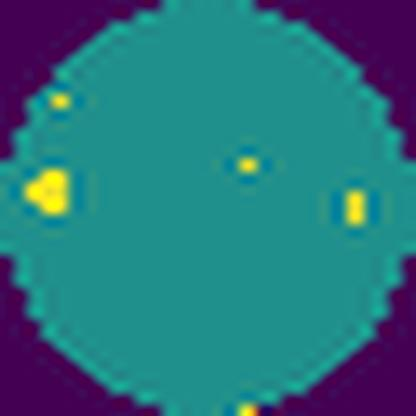Loc: (23, 165, 70, 217), (343, 188, 369, 226)
